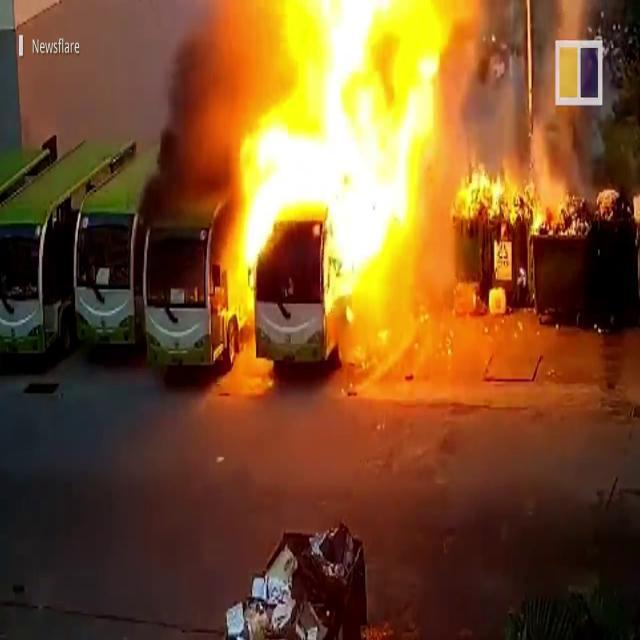Fire: (218, 0, 448, 363)
Smoke: (134, 2, 257, 226), (521, 105, 633, 219)
